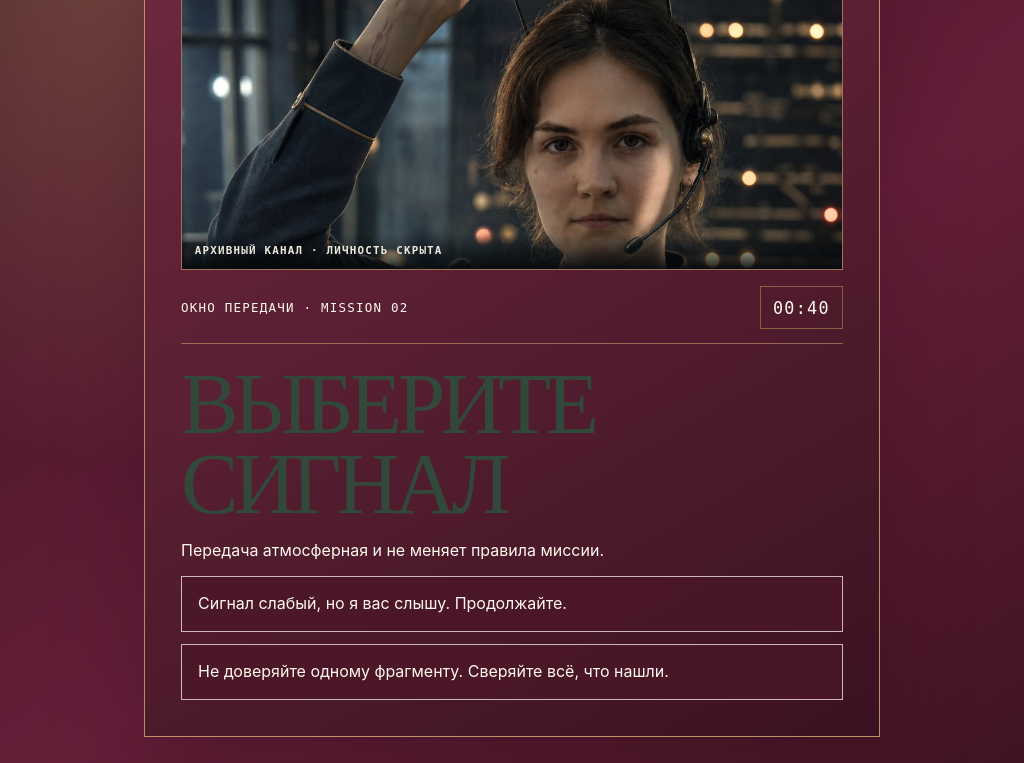
Test: LizaBunkerOperatorPanel › coalesces polling and refresh loads, keeps the last valid view on error, and cleans up
(page scrolled)
Step 1. Click the button "Не доверяйте одному фрагменту. Сверяйте всё, что нашли." → [512, 672], box [181,644,843,700]
Wait 4000 ms
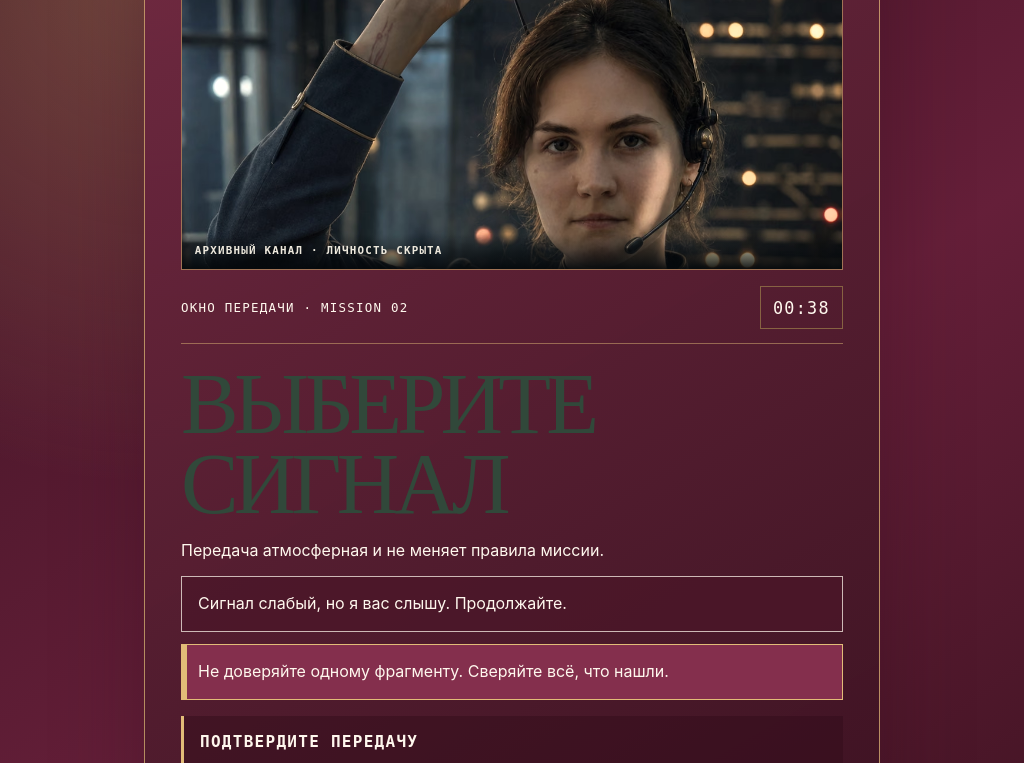
Now the text "ПОДТВЕРДИТЕ ПЕРЕДАЧУ" is shown, box [200,732,418,751]
